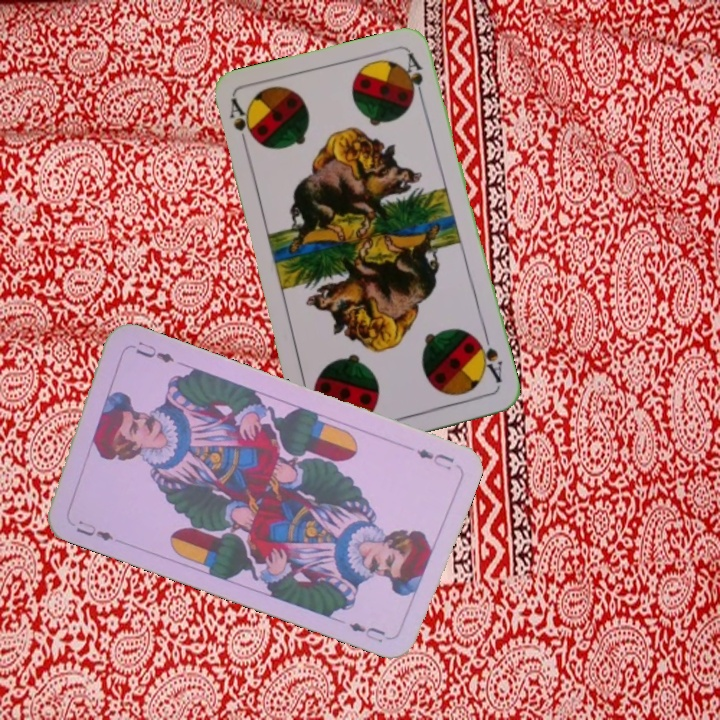EU: (412, 444, 457, 473), (72, 516, 116, 544)
SA: (224, 95, 259, 153), (472, 331, 505, 389)
